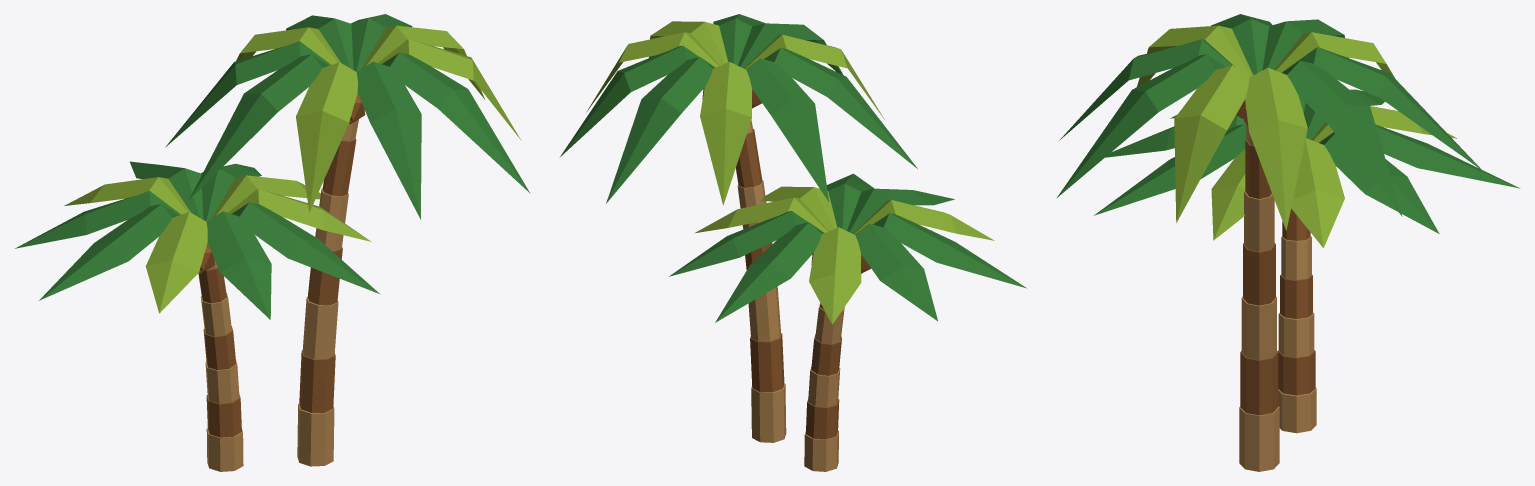
File: palm_twin.glb
3 renders of one model, left to right at view 1: azimuth 30°, elevation 25°; view 2: azimuth 150°, elevation 25°; view 3: azimuth 270°, elevation 25°, orthographic. The views are drawn at different scales.
Visible parts, largest first — view 1: palm_twin_pc; view 2: palm_twin_pc; view 3: palm_twin_pc.
Boxes of the visible parts, x1,y1,x2,y2 form: palm_twin_pc: (15,14,530,471); palm_twin_pc: (559,14,1026,471); palm_twin_pc: (1056,14,1520,471).
Size of the model in its own units: 5.35 by 4.57 by 4.37.
